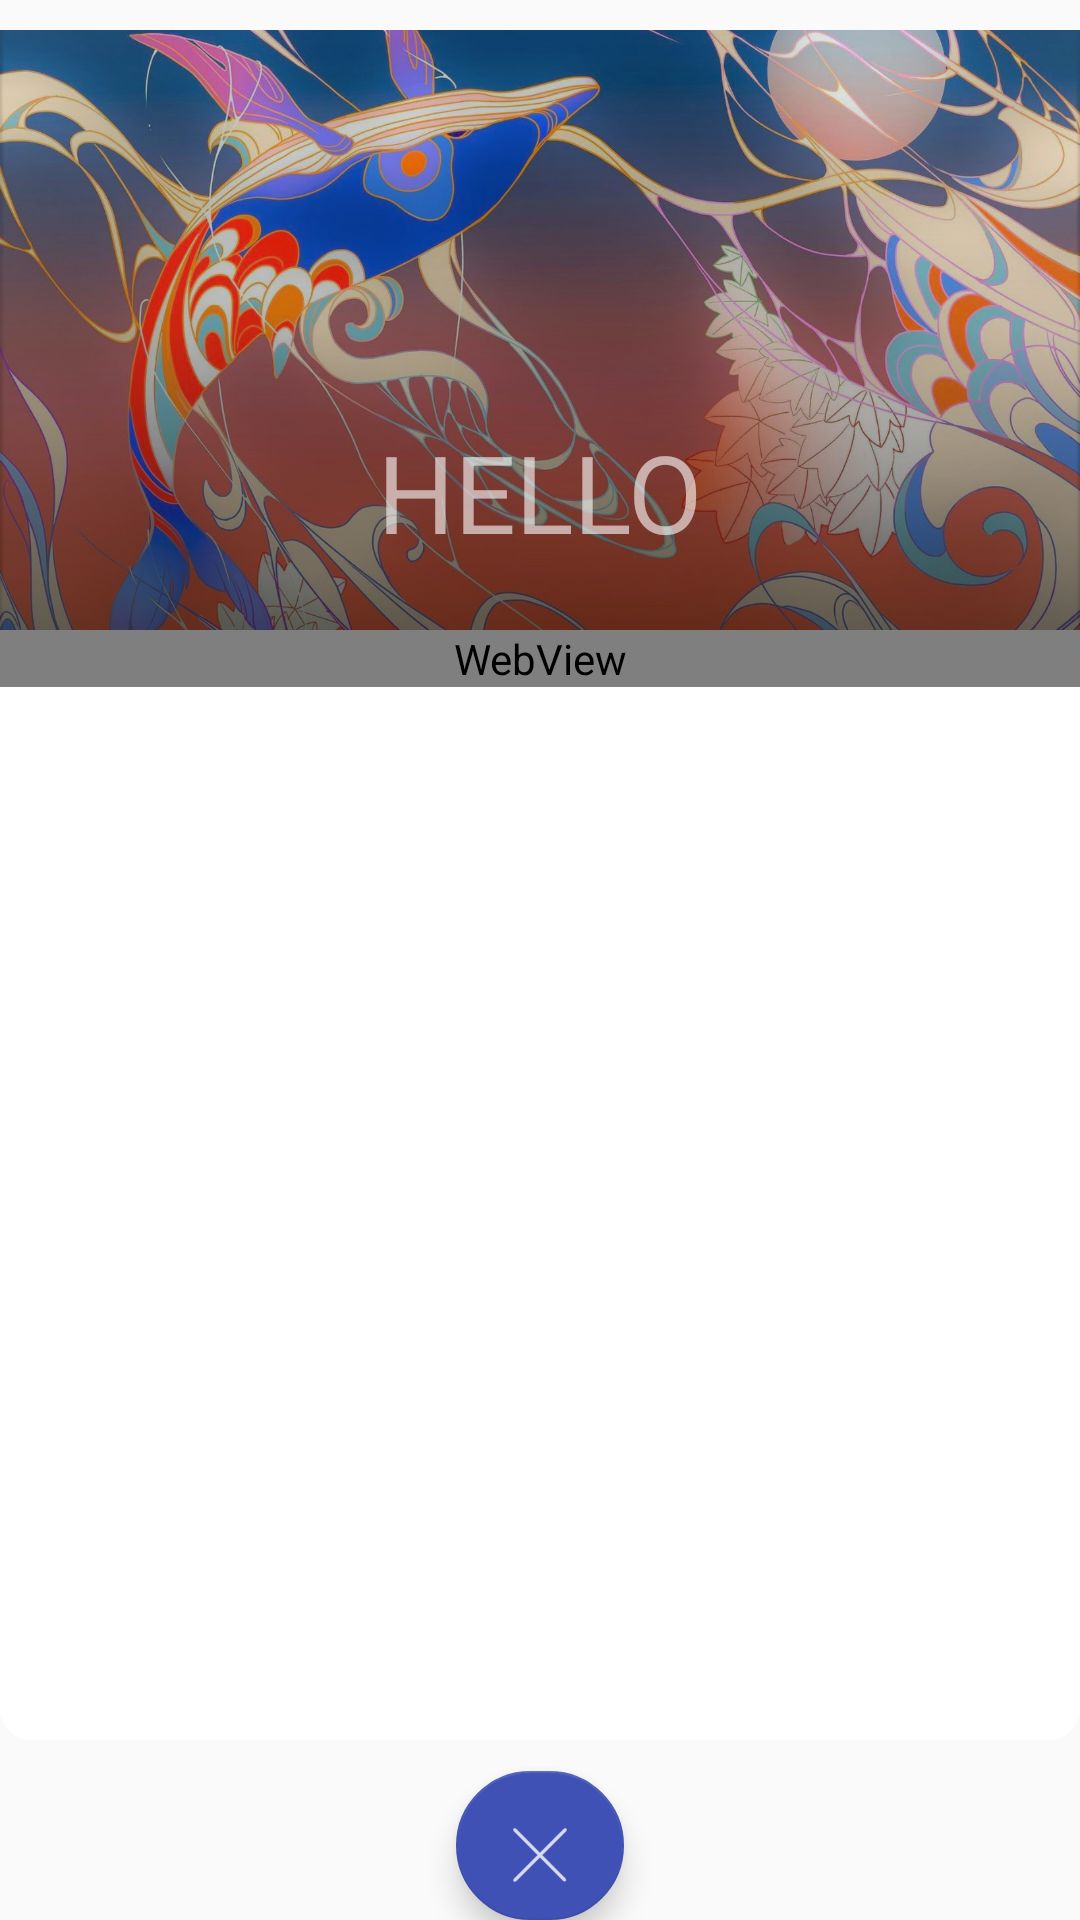

Icons on this 1080×1920 Android screen, each with the point to tap as point (x, y):
cancel: point (540, 1845)
